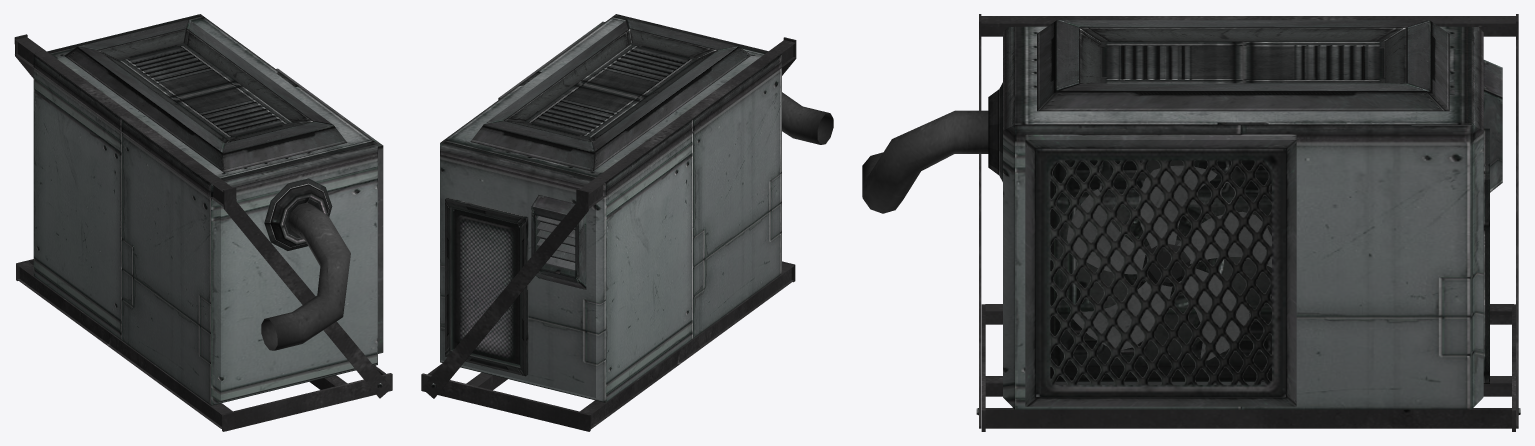
The model's file is aircon3.FBX.
3 views of the same model, side by side, from view 1: azimuth 30°, elevation 25°; view 2: azimuth 150°, elevation 25°; view 3: azimuth 270°, elevation 25° (orthographic). The views are drawn at different scales.
Visible parts, largest first — view 1: aircon3; view 2: aircon3; view 3: aircon3, ac3_fan.
Boxes of the visible parts, x1,y1,x2,y2 form: aircon3: (14,14,392,431); aircon3: (421,14,833,431); aircon3: (862,14,1520,431); ac3_fan: (1066,165,1271,360).
Bounding box in the file's own units: 79.56 × 109 × 198.
